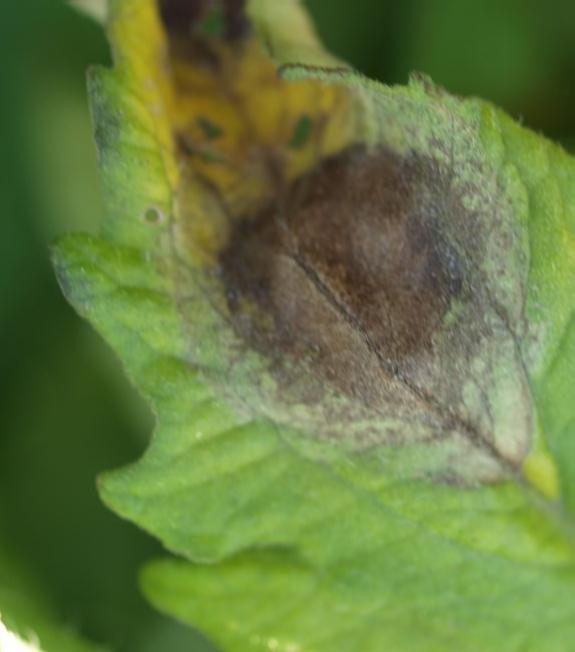Tomato leaf late blight: (11, 0, 575, 652)
